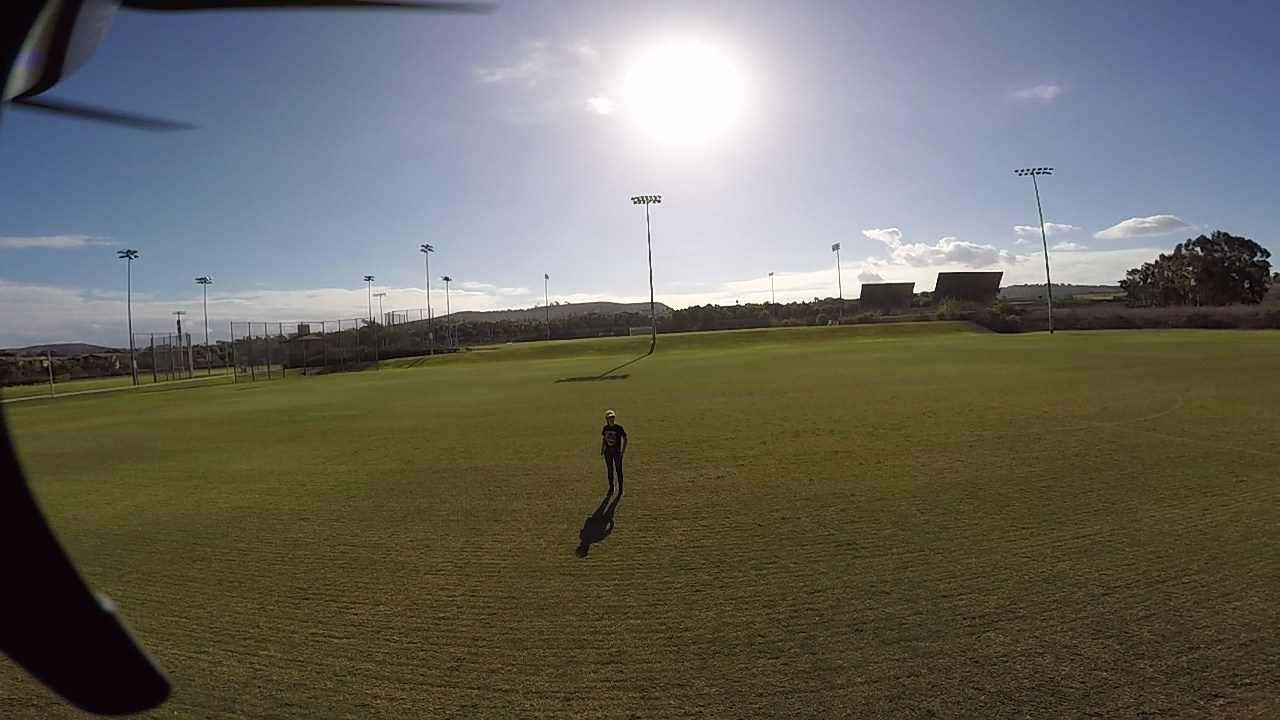person: (568, 403, 622, 552)
